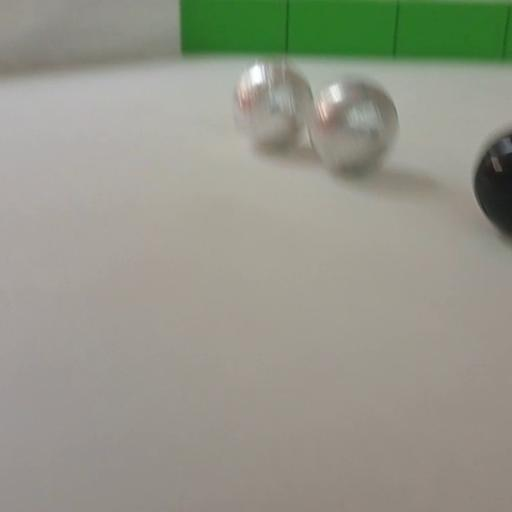alive: (304, 74, 401, 176), (232, 59, 316, 153)
dead: (471, 121, 512, 247)
